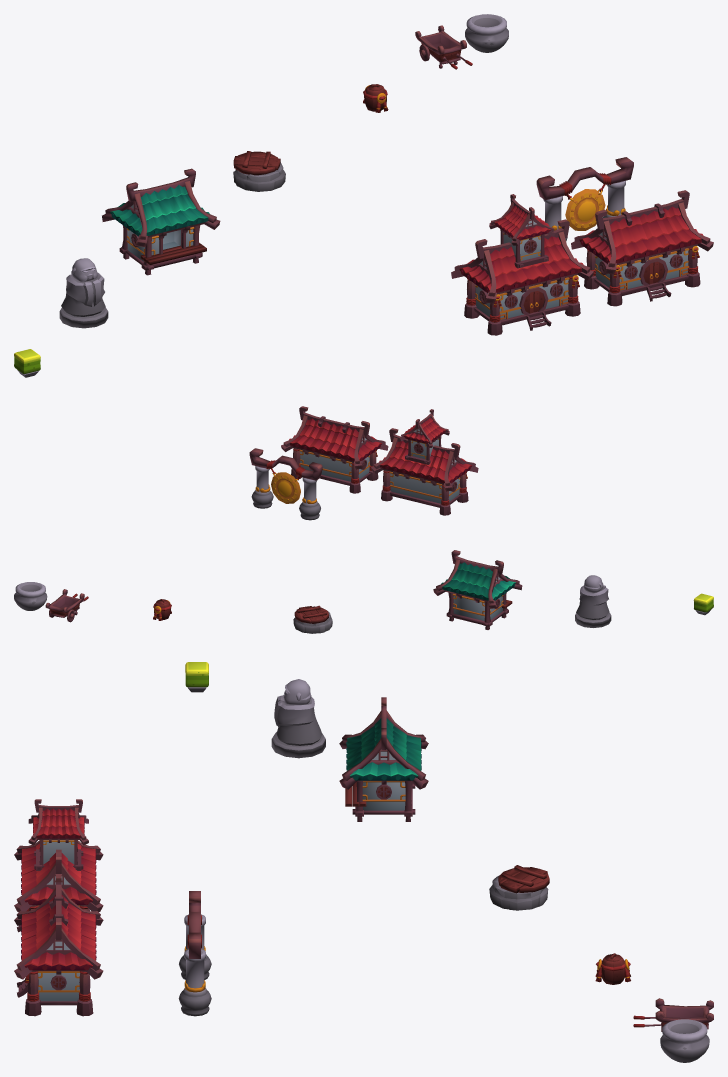
The model's file is village.glb.
3 renders of one model, top to bottom at view 1: azimuth 30°, elevation 25°; view 2: azimuth 150°, elevation 25°; view 3: azimuth 270°, elevation 25°, orthographic. The views are drawn at different scales.
Parts seen in each view (by area): view 1: building_2, building_1, shop, gong, statue_monk, well, pot_1, cart, garden_bush_1, barrel_1; view 2: building_2, building_1, shop, gong, statue_monk, well, pot_1, cart; view 3: building_1, shop, building_2, statue_monk, gong, well, pot_1, cart, barrel_1, garden_bush_1.
Boxes of the visible parts, x1,y1,x2,y2 form: building_2: (451, 194, 593, 335); building_1: (571, 190, 713, 306); shop: (102, 168, 220, 275); gong: (536, 157, 633, 241); statue_monk: (59, 258, 108, 328); well: (233, 151, 285, 191); pot_1: (465, 14, 508, 52); cart: (415, 25, 472, 69); garden_bush_1: (14, 349, 40, 377); barrel_1: (363, 84, 388, 112); building_2: (371, 409, 478, 515); building_1: (281, 406, 388, 493); shop: (433, 550, 522, 629); gong: (249, 448, 322, 520); statue_monk: (575, 575, 611, 627); well: (293, 605, 332, 633); pot_1: (14, 582, 47, 610); cart: (45, 589, 88, 622); building_1: (14, 874, 103, 1016); shop: (339, 697, 428, 821); building_2: (14, 799, 103, 932); statue_monk: (271, 679, 325, 758); gong: (178, 891, 211, 1016); well: (489, 865, 549, 910); pot_1: (660, 1019, 709, 1062); cart: (633, 998, 713, 1031); barrel_1: (595, 953, 630, 984); garden_bush_1: (185, 662, 208, 692).
Bounding box in the file's own units: 30.58 × 4.8 × 23.48.
Materials: 1 (1 with a texture image).
